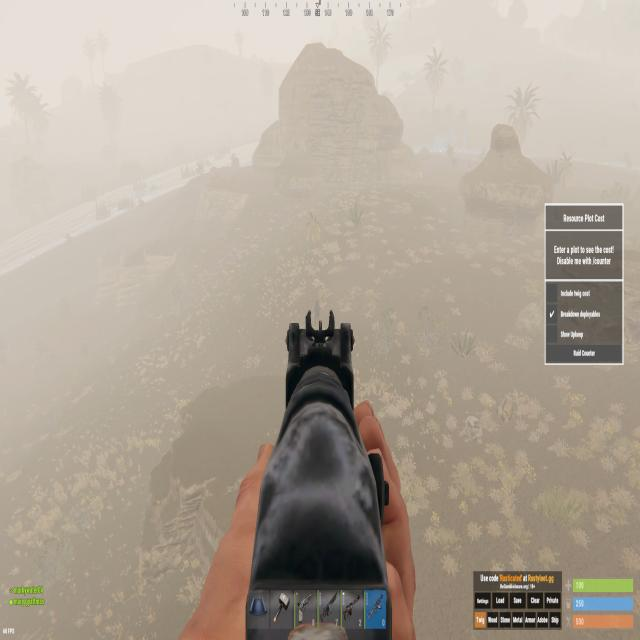Player: (314, 298, 320, 330)
